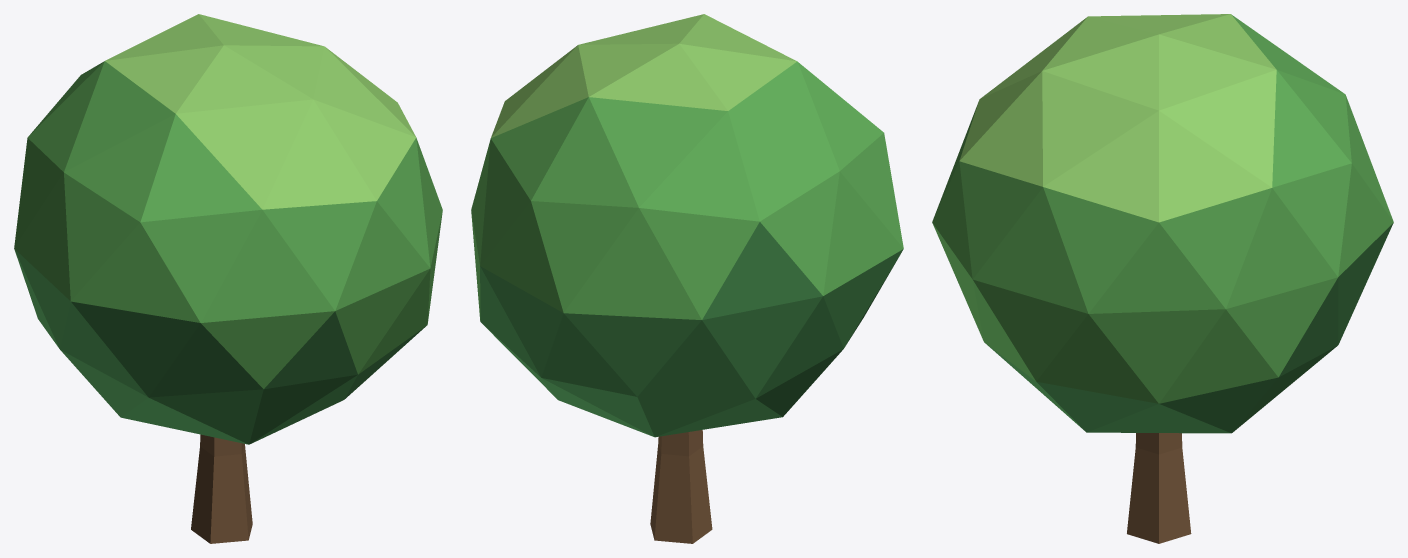
The model's file is hedge_ball.glb.
3 renders of one model, left to right at view 1: azimuth 30°, elevation 25°; view 2: azimuth 150°, elevation 25°; view 3: azimuth 270°, elevation 25°, orthographic.
Visible parts, largest first — view 1: hedge_ball; view 2: hedge_ball; view 3: hedge_ball.
Part boxes in pixels (x1,y1,x2,y2): hedge_ball: (14,14,442,543); hedge_ball: (471,14,903,543); hedge_ball: (932,14,1393,543).
Bounding box in the file's own units: 1.16 × 1.45 × 1.23.
